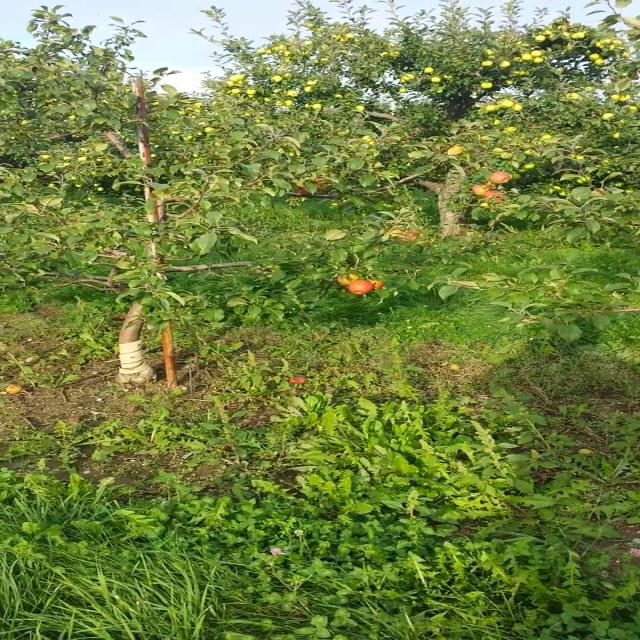apple: (348, 279, 372, 295), (337, 270, 359, 286), (480, 189, 504, 201), (398, 230, 420, 242), (490, 171, 508, 183), (366, 278, 383, 290), (469, 185, 488, 195), (296, 186, 308, 194)
